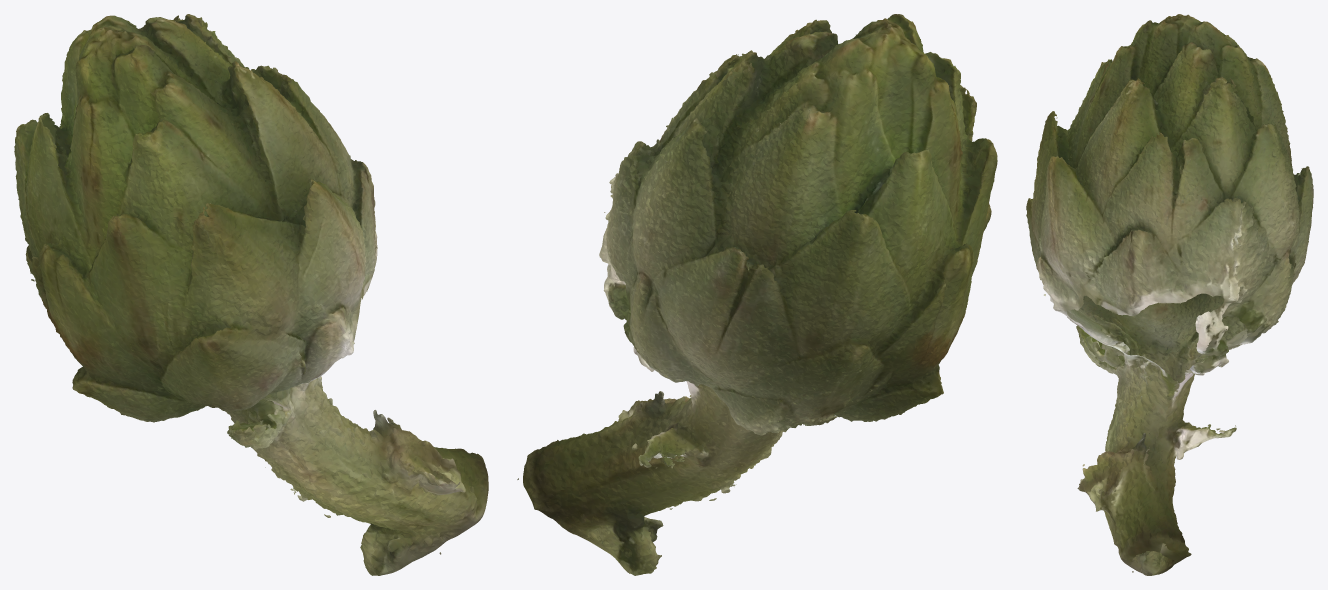
File: sf-artichoke-cd511c.glb
3 renders of one model, left to right at view 1: azimuth 30°, elevation 25°; view 2: azimuth 150°, elevation 25°; view 3: azimuth 270°, elevation 25°, orthographic. The views are drawn at different scales.
Visible parts, largest first — view 1: Object_2; view 2: Object_2; view 3: Object_2.
Boxes of the visible parts, x1,y1,x2,y2 form: Object_2: [14, 14, 488, 575]; Object_2: [517, 14, 997, 575]; Object_2: [1026, 14, 1313, 575].
Bounding box in the file's own units: 3.85 × 5.12 × 2.89.
1 material, 1 textured.
